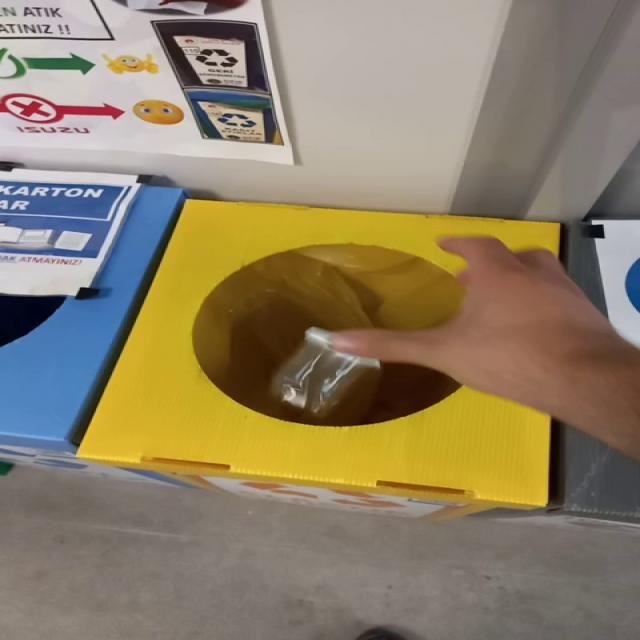plastic: (271, 327, 381, 426)
